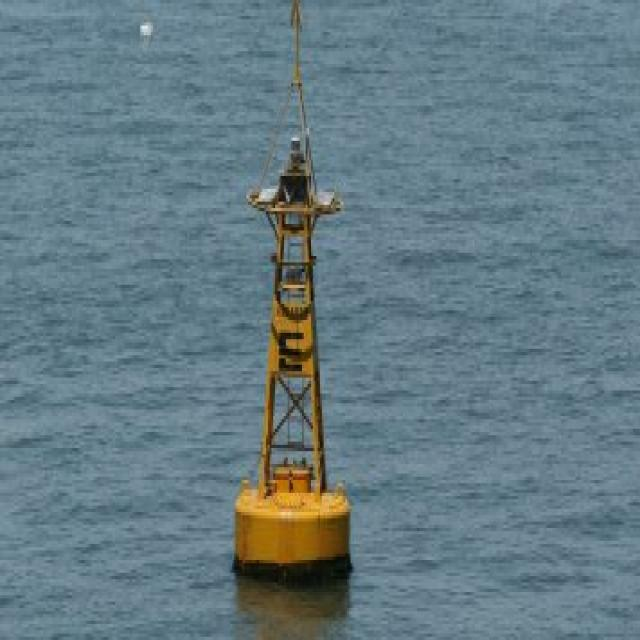marque: (219, 1, 363, 603)
